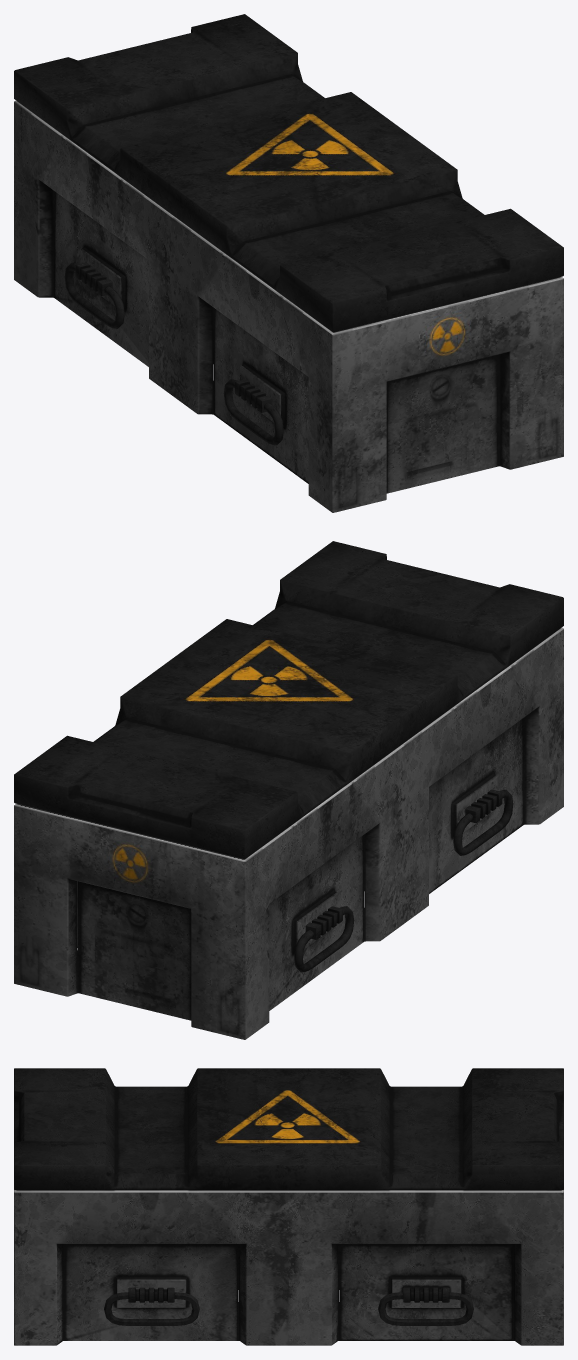
The model's file is Nukleer_Case.fbx.
3 renders of one model, top to bottom at view 1: azimuth 30°, elevation 25°; view 2: azimuth 150°, elevation 25°; view 3: azimuth 270°, elevation 25°, orthographic. The views are drawn at different scales.
Visible parts, largest first — view 1: Nukleer_Case; view 2: Nukleer_Case; view 3: Nukleer_Case.
Boxes of the visible parts, x1,y1,x2,y2 form: Nukleer_Case: [14, 14, 563, 512]; Nukleer_Case: [14, 541, 563, 1039]; Nukleer_Case: [14, 1068, 563, 1345].
Bounding box in the file's own units: 2.91 × 2.41 × 6.67.
1 material, 1 textured.
